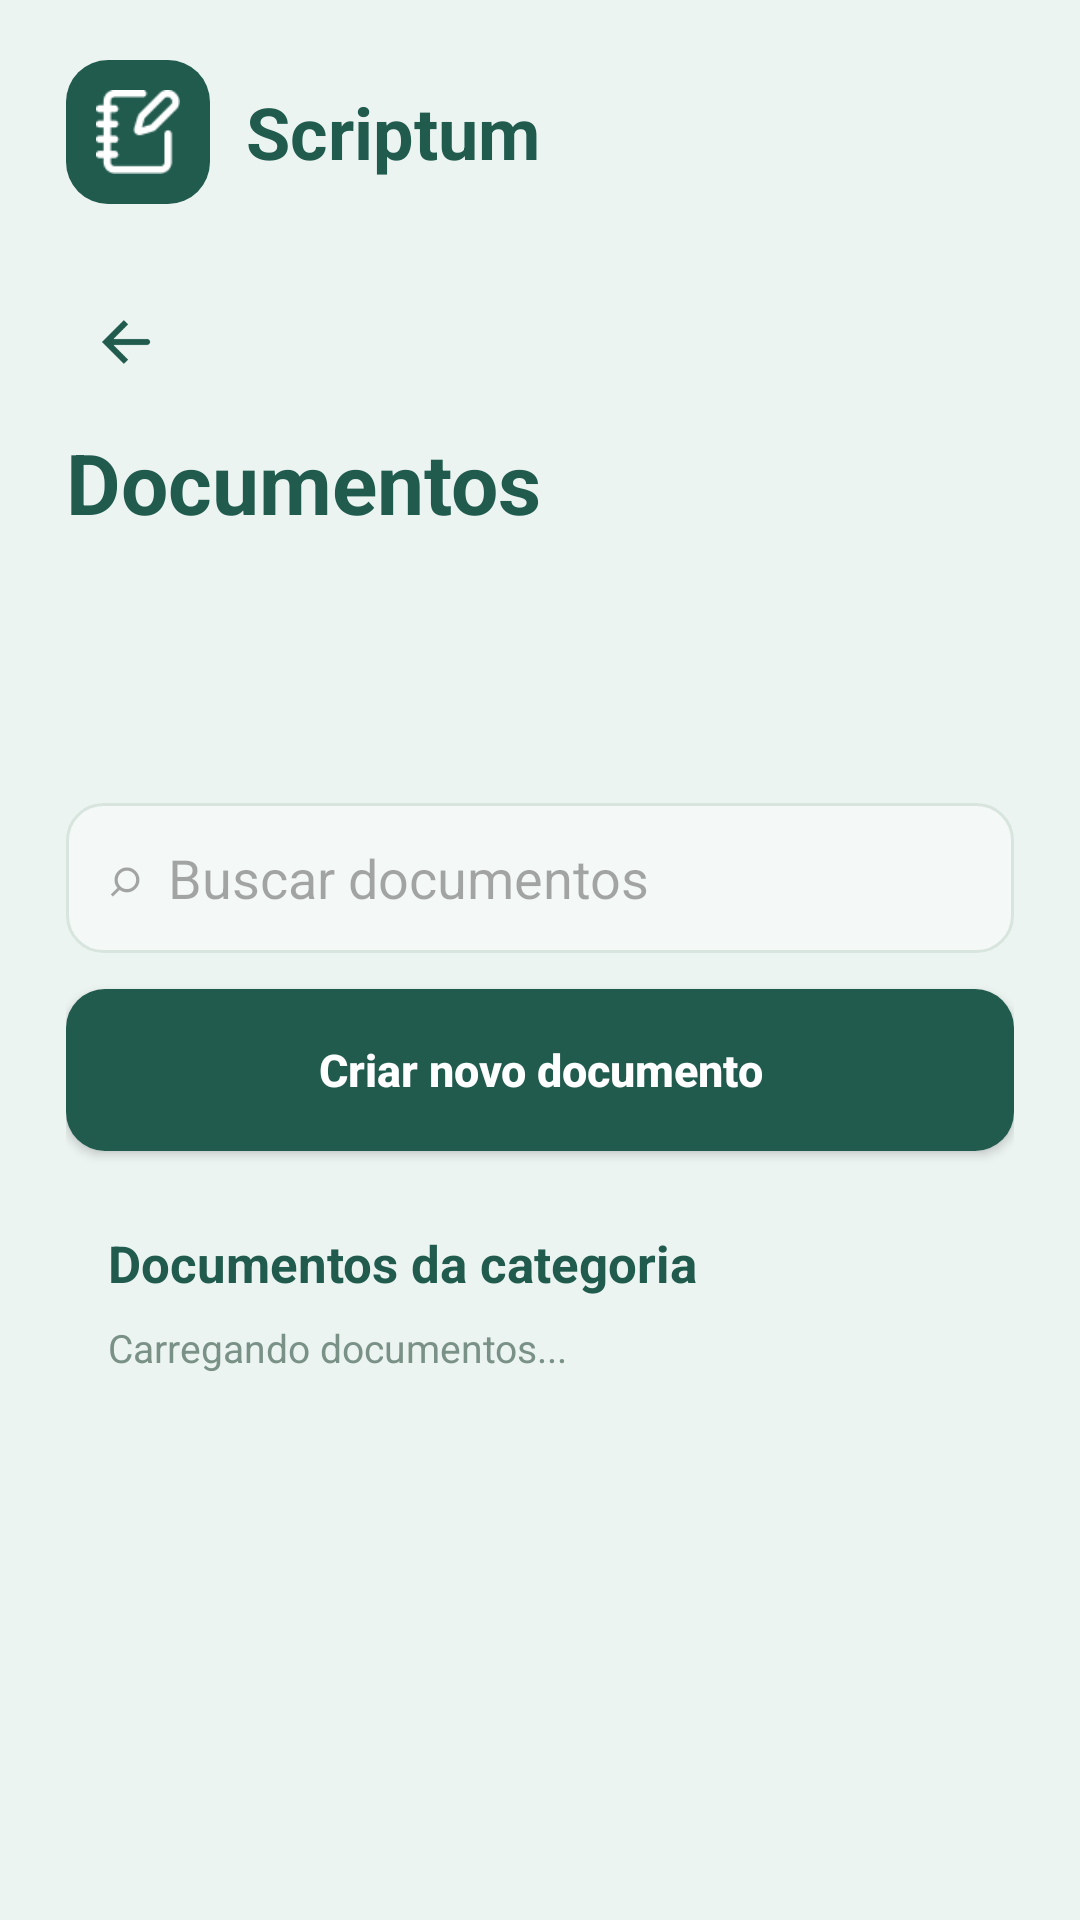

Icons on this 1080px x 1920px Android screen, each with the point to tap as point (x, y):
Voltar para categorias: point (126, 342)
